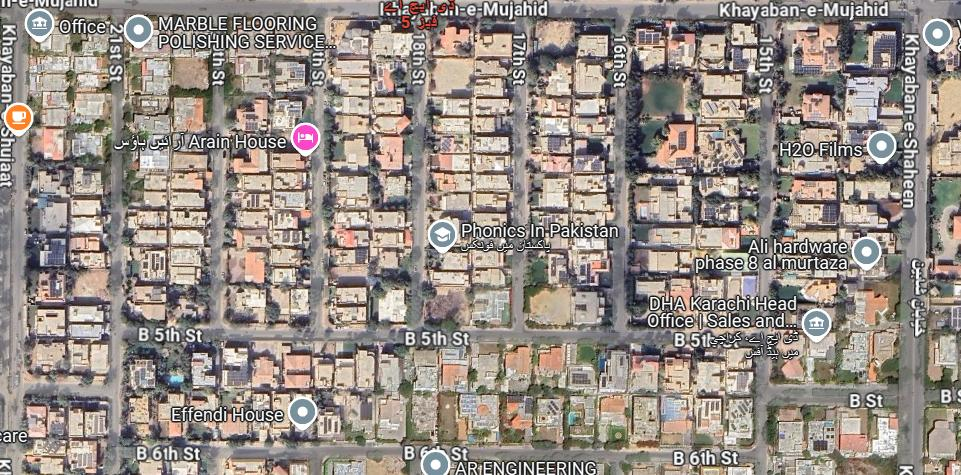Buildings: (122, 343, 765, 450), (773, 17, 913, 387), (631, 20, 766, 329), (23, 17, 112, 383), (427, 25, 517, 330), (125, 20, 214, 326), (227, 24, 310, 324), (529, 17, 608, 325), (333, 20, 407, 329)
